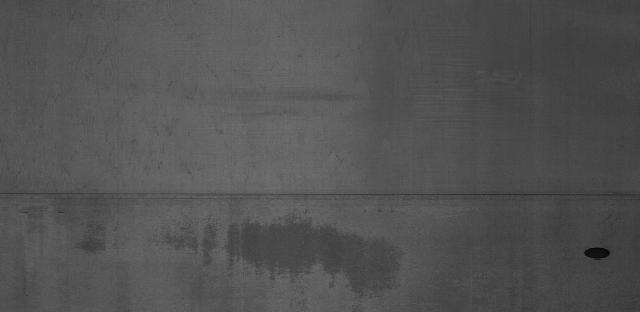oil_spot: (216, 218, 403, 294)
punching_hole: (582, 244, 612, 264)
welding_line: (1, 181, 638, 209)
